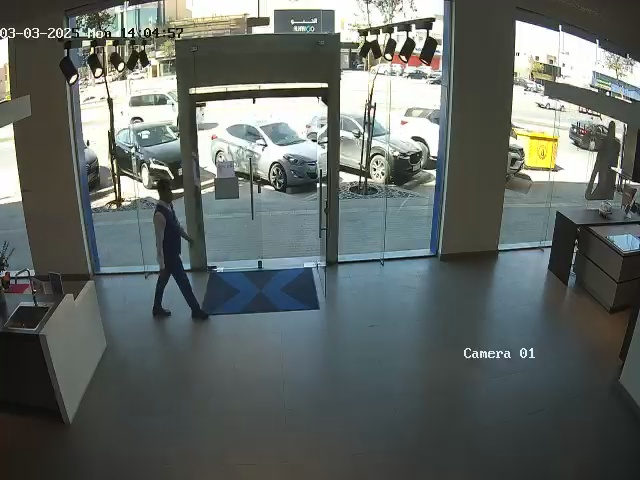employee: (152, 179, 210, 320)
